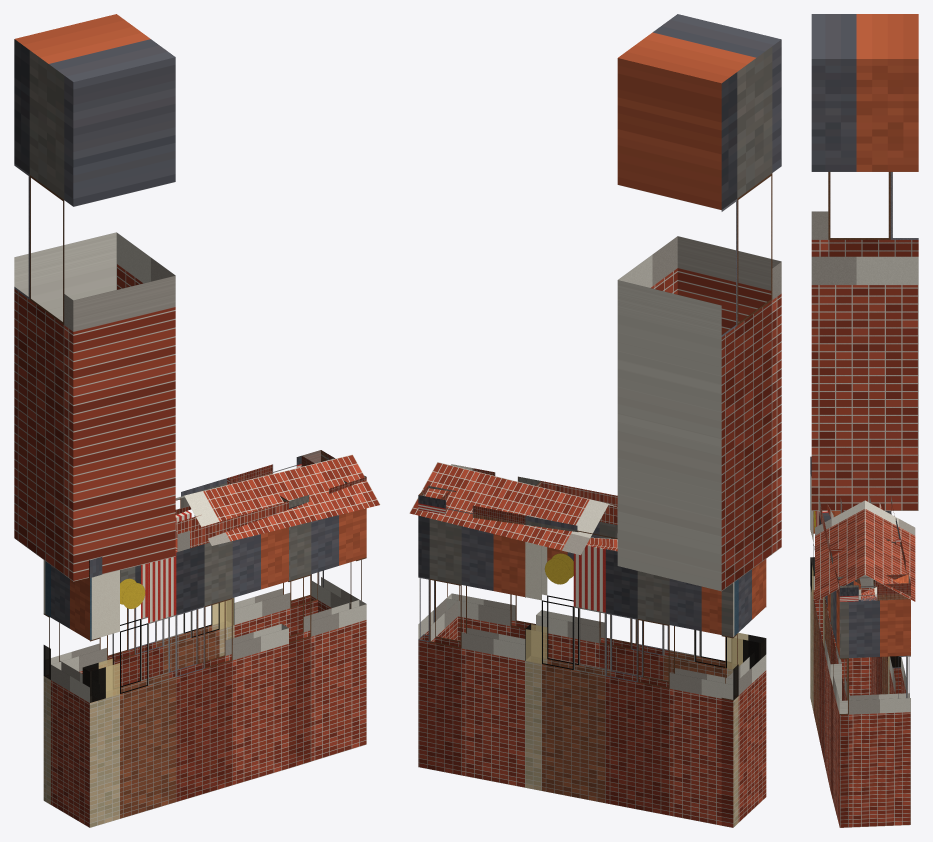
3 views of the same model, side by side, from view 1: azimuth 30°, elevation 25°; view 2: azimuth 150°, elevation 25°; view 3: azimuth 270°, elevation 25° (orthographic). The views are drawn at different scales.
Visible parts, largest first — view 1: 238563121__chimney_0_xb, 238563121__wall_1_xb, 238563121__wall_2_xb, 238563121_roof_-1_xb, 238563121__wall_0_xb, 238563121__wall_5_xb, 238563121__wall_4_xb, 238563121__cornice_1, 238563121__wall_1_xf, 238563121__wall_3_xb, 238563121__wall_5_xf; view 2: 238563121__chimney_0_xb, 238563121__wall_5_xb, 238563121__wall_4_xb, 238563121_roof_1_xb, 238563121__wall_0_xb, 238563121__wall_1_xb, 238563121__wall_2_xb, 238563121__cornice_4, 238563121__wall_3_xb, 238563121__wall_5_xf, 238563121__wall_1_xf, 238563121__cornice_1 (+1 smaller); view 3: 238563121__chimney_0_xb, 238563121__wall_3_xb, 238563121__wall_1_xb, 238563121_roof_-1_xb, 238563121_roof_1_xb, 238563121__wall_2_xb, 238563121__wall_0_xb, 238563121__cornice_3, 238563121__wall_5_xb, 238563121__wall_4_xb, 238563121__cornice_1.
Part boxes in pixels (x1,y1,x2,y2): 238563121__chimney_0_xb: [14, 14, 175, 581]; 238563121__wall_1_xb: [82, 527, 288, 827]; 238563121__wall_2_xb: [288, 508, 366, 768]; 238563121_roof_-1_xb: [184, 454, 380, 545]; 238563121__wall_0_xb: [43, 562, 99, 827]; 238563121__wall_5_xb: [43, 511, 234, 804]; 238563121__wall_4_xb: [234, 570, 323, 637]; 238563121__cornice_1: [90, 496, 288, 577]; 238563121__wall_1_xf: [83, 578, 119, 702]; 238563121__wall_3_xb: [311, 557, 366, 612]; 238563121__wall_5_xf: [44, 562, 233, 679]; 238563121__chimney_0_xb: [617, 14, 781, 591]; 238563121__wall_5_xb: [525, 542, 738, 827]; 238563121__wall_4_xb: [418, 515, 525, 787]; 238563121_roof_1_xb: [409, 462, 608, 555]; 238563121__wall_0_xb: [721, 559, 766, 827]; 238563121__wall_1_xb: [536, 521, 766, 681]; 238563121__wall_2_xb: [446, 593, 535, 641]; 238563121__cornice_4: [418, 486, 529, 524]; 238563121__wall_3_xb: [418, 583, 459, 642]; 238563121__wall_5_xf: [526, 580, 738, 699]; 238563121__wall_1_xf: [727, 633, 765, 668]; 238563121__cornice_1: [536, 481, 617, 524]; 238563121__chimney_0_xb: [811, 14, 918, 510]; 238563121__wall_3_xb: [839, 596, 910, 827]; 238563121__wall_1_xb: [810, 473, 841, 790]; 238563121_roof_-1_xb: [815, 500, 864, 601]; 238563121_roof_1_xb: [865, 500, 915, 601]; 238563121__wall_2_xb: [830, 590, 850, 826]; 238563121__wall_0_xb: [810, 511, 874, 695]; 238563121__cornice_3: [837, 574, 910, 601]; 238563121__wall_5_xb: [871, 511, 900, 694]; 238563121__wall_4_xb: [889, 655, 910, 698]; 238563121__cornice_1: [810, 456, 844, 556].
Bounding box in the file's own units: 0.4531 × 1.05 × 0.1518.
1 material, 1 textured.
